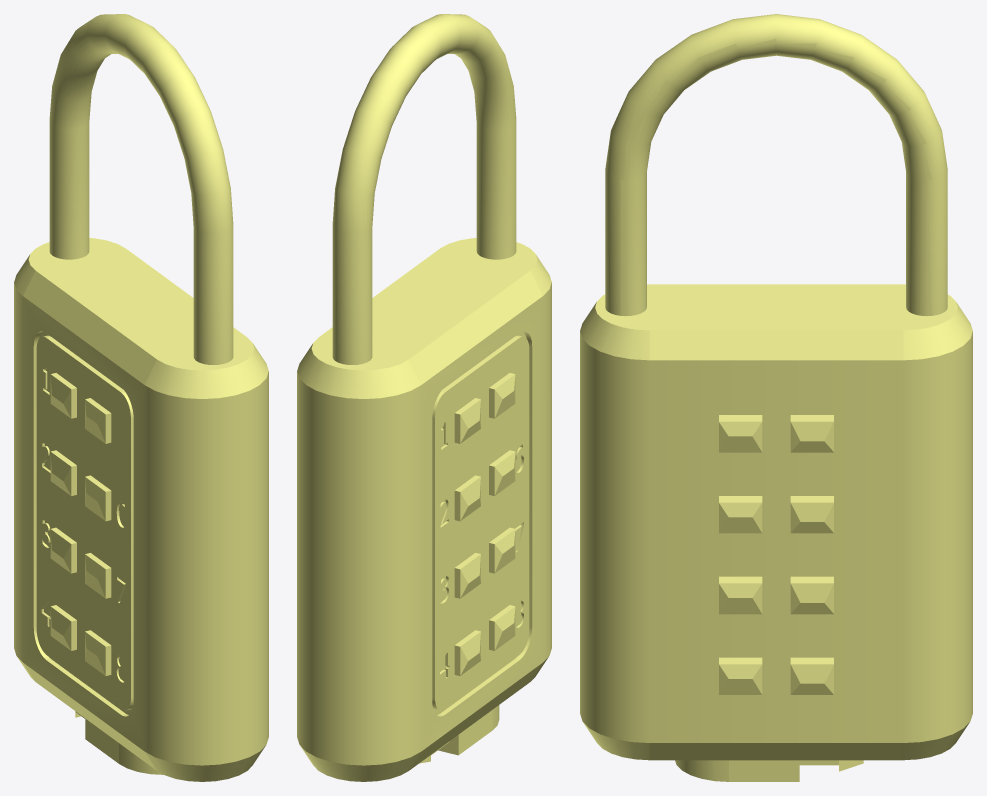
File: lock.fbx
3 views of the same model, side by side, from view 1: azimuth 30°, elevation 25°; view 2: azimuth 150°, elevation 25°; view 3: azimuth 270°, elevation 25° (orthographic). The views are drawn at different scales.
Parts seen in each view (by area): view 1: Body1, head1, panel1, base1, foot1, btn6, btn7, btn1, btn3, btn4, btn8, btn2 (+1 smaller); view 2: Body1, head1, panel1, base1, foot1, btn5, btn2, btn1, btn3, btn4, btn8, btn6 (+1 smaller); view 3: Body1, head1, back_btn1, base1, foot1.
Part boxes in pixels (x1=…): Body1: x1=14, y1=282, x2=268, y2=765; head1: x1=14, y1=14, x2=268, y2=398; panel1: x1=36, y1=335, x2=133, y2=710; base1: x1=17, y1=657, x2=265, y2=781; foot1: x1=85, y1=719, x2=163, y2=774; btn6: x1=85, y1=475, x2=111, y2=521; btn7: x1=50, y1=527, x2=76, y2=573; btn1: x1=50, y1=373, x2=76, y2=418; btn3: x1=85, y1=630, x2=111, y2=675; btn4: x1=50, y1=605, x2=76, y2=650; btn8: x1=85, y1=398, x2=111, y2=443; btn2: x1=85, y1=553, x2=111, y2=598; Body1: x1=297, y1=282, x2=551, y2=765; head1: x1=297, y1=14, x2=551, y2=398; panel1: x1=432, y1=335, x2=529, y2=710; base1: x1=300, y1=657, x2=548, y2=781; foot1: x1=438, y1=705, x2=499, y2=755; btn5: x1=454, y1=475, x2=480, y2=521; btn2: x1=489, y1=527, x2=515, y2=573; btn1: x1=454, y1=398, x2=480, y2=443; btn3: x1=489, y1=605, x2=515, y2=650; btn4: x1=454, y1=630, x2=480, y2=675; btn8: x1=489, y1=373, x2=515, y2=418; btn6: x1=489, y1=450, x2=515, y2=495; Body1: x1=580, y1=331, x2=972, y2=742; head1: x1=580, y1=14, x2=972, y2=360; back_btn1: x1=719, y1=415, x2=833, y2=694; base1: x1=583, y1=722, x2=969, y2=760; foot1: x1=675, y1=760, x2=799, y2=781.
Size of the model in its own units: 1126 by 5432 by 2603.
